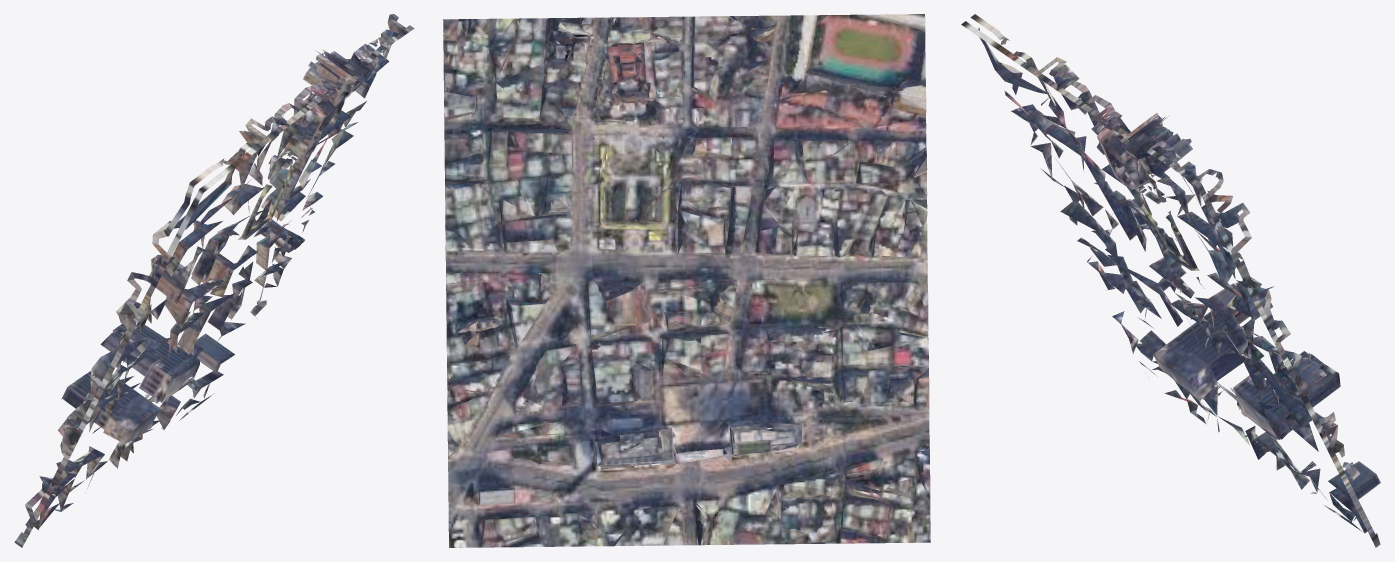
3 views of the same model, side by side, from view 1: azimuth 30°, elevation 25°; view 2: azimuth 150°, elevation 25°; view 3: azimuth 270°, elevation 25° (orthographic). The views are drawn at different scales.
Bounding box in the file's own units: 615 × 575 × 516.
1 material, 1 textured.
